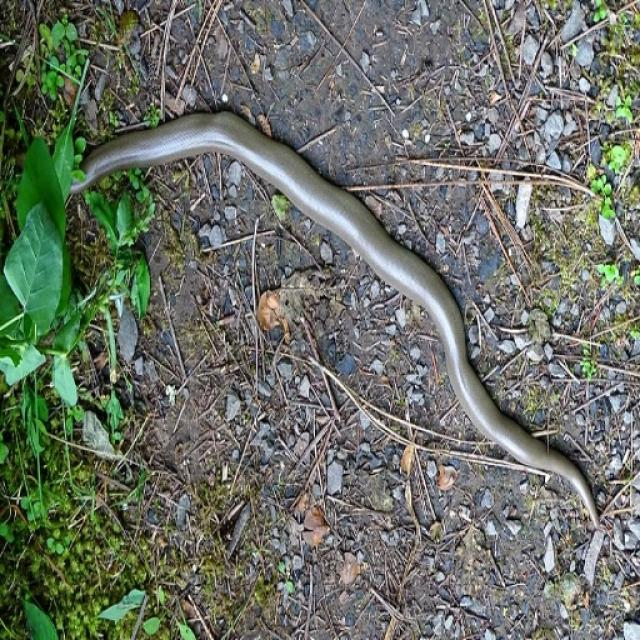snake: (42, 97, 608, 535)
